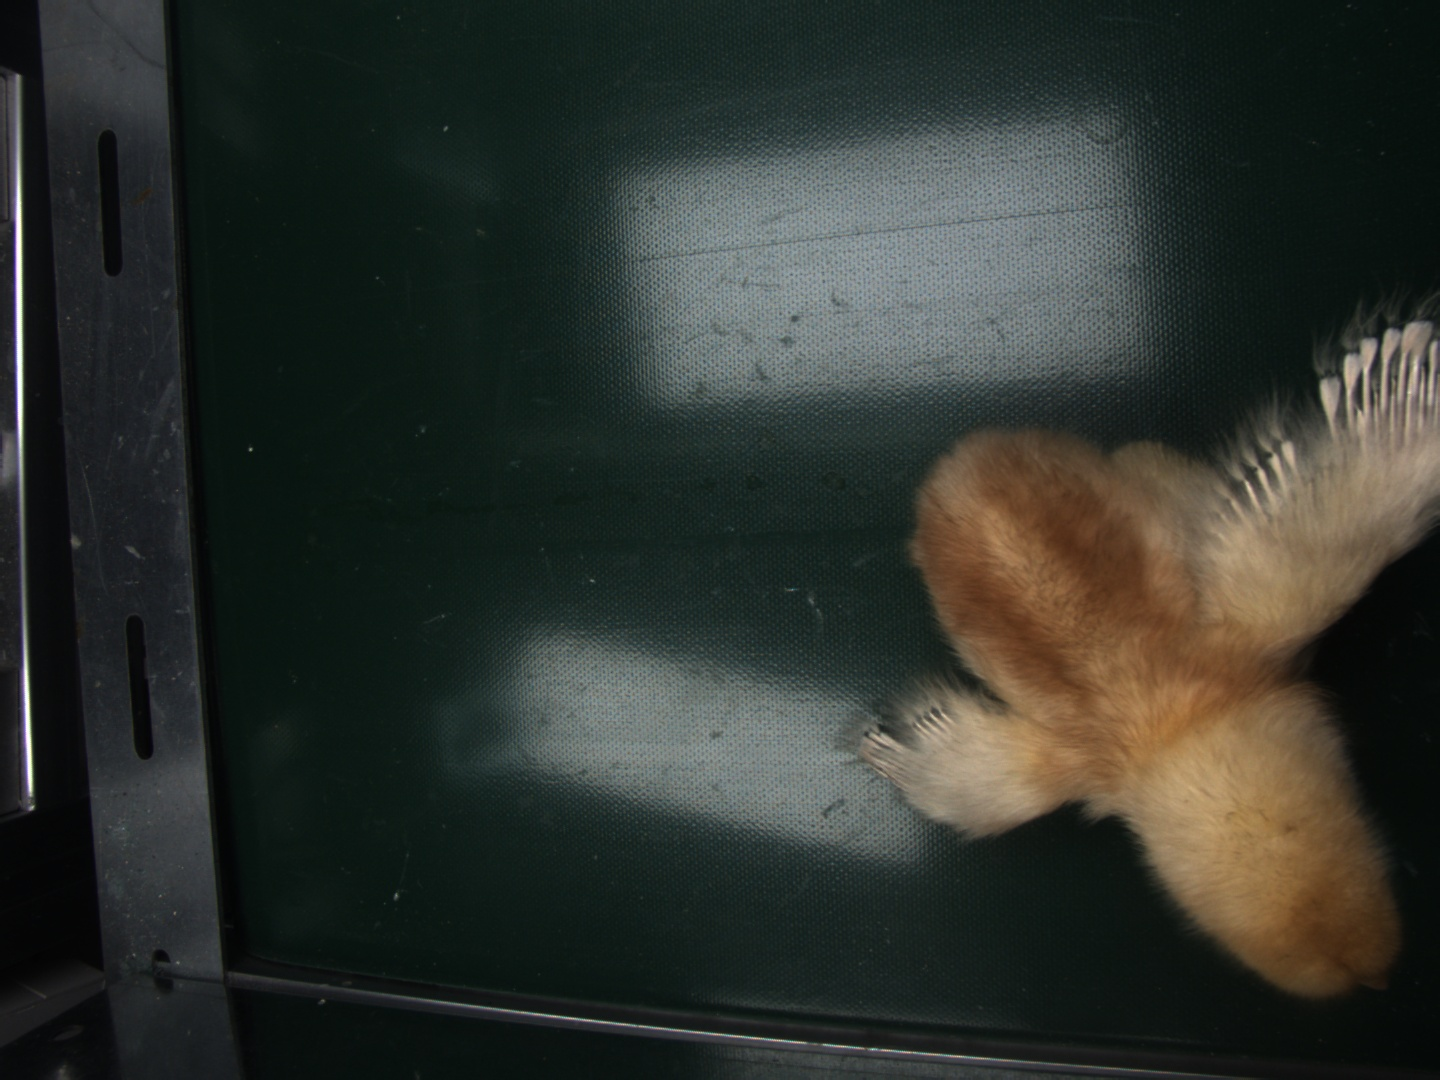female: (1316, 323, 1439, 450)
